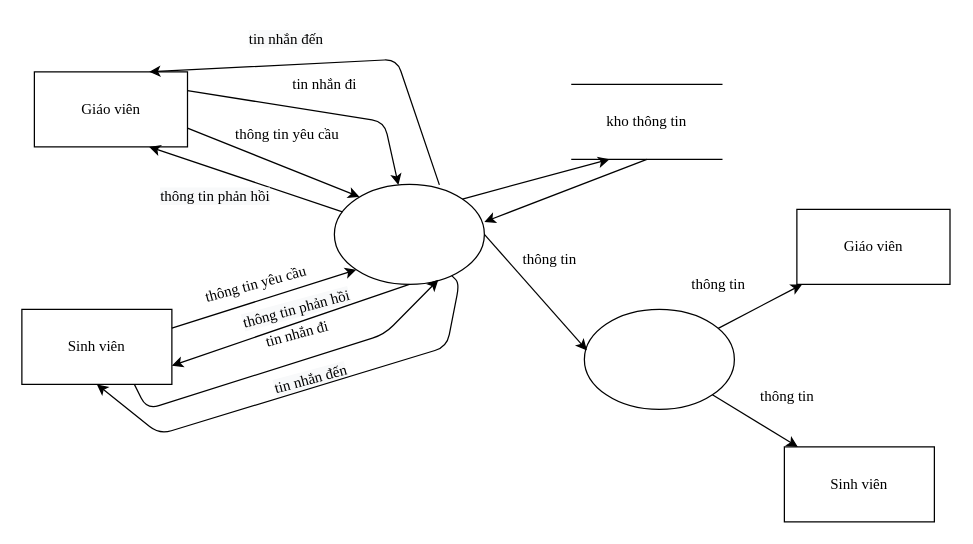
The diagram is 973 pixels wide and 544 high, and some of its shapes have lost their labels. Here are the shapes that lost their labels. From the top down, the box of each, then its label:
(333, 183, 484, 284): Gửi tin nhắn
(583, 308, 734, 409): Hiện thông báo tin nhắn đến
